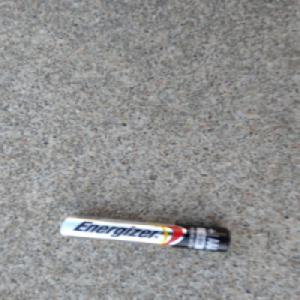Battery: (57, 213, 232, 253)
